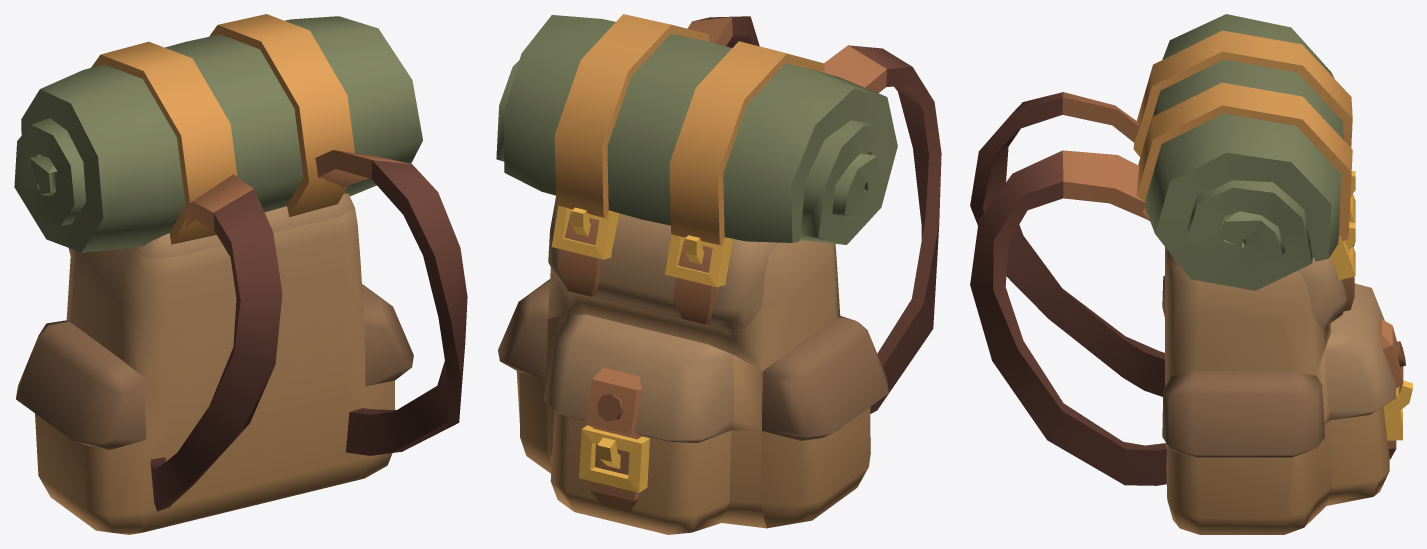
File: Bag_9.fbx
The picture shows the model from 3 angles, left to right: view 1: azimuth 30°, elevation 25°; view 2: azimuth 150°, elevation 25°; view 3: azimuth 270°, elevation 25°; orthographic projection. The views are drawn at different scales.
Parts seen in each view (by area): view 1: Bag_9; view 2: Bag_9; view 3: Bag_9.
Boxes of the visible parts, x1,y1,x2,y2 form: Bag_9: (14, 14, 467, 534); Bag_9: (496, 14, 941, 534); Bag_9: (970, 14, 1412, 534).
Bounding box in the file's own units: 58.45 × 71.11 × 68.72.
